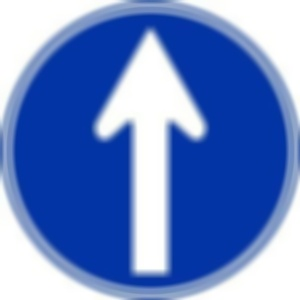Direction_sign: (1, 5, 297, 297)
